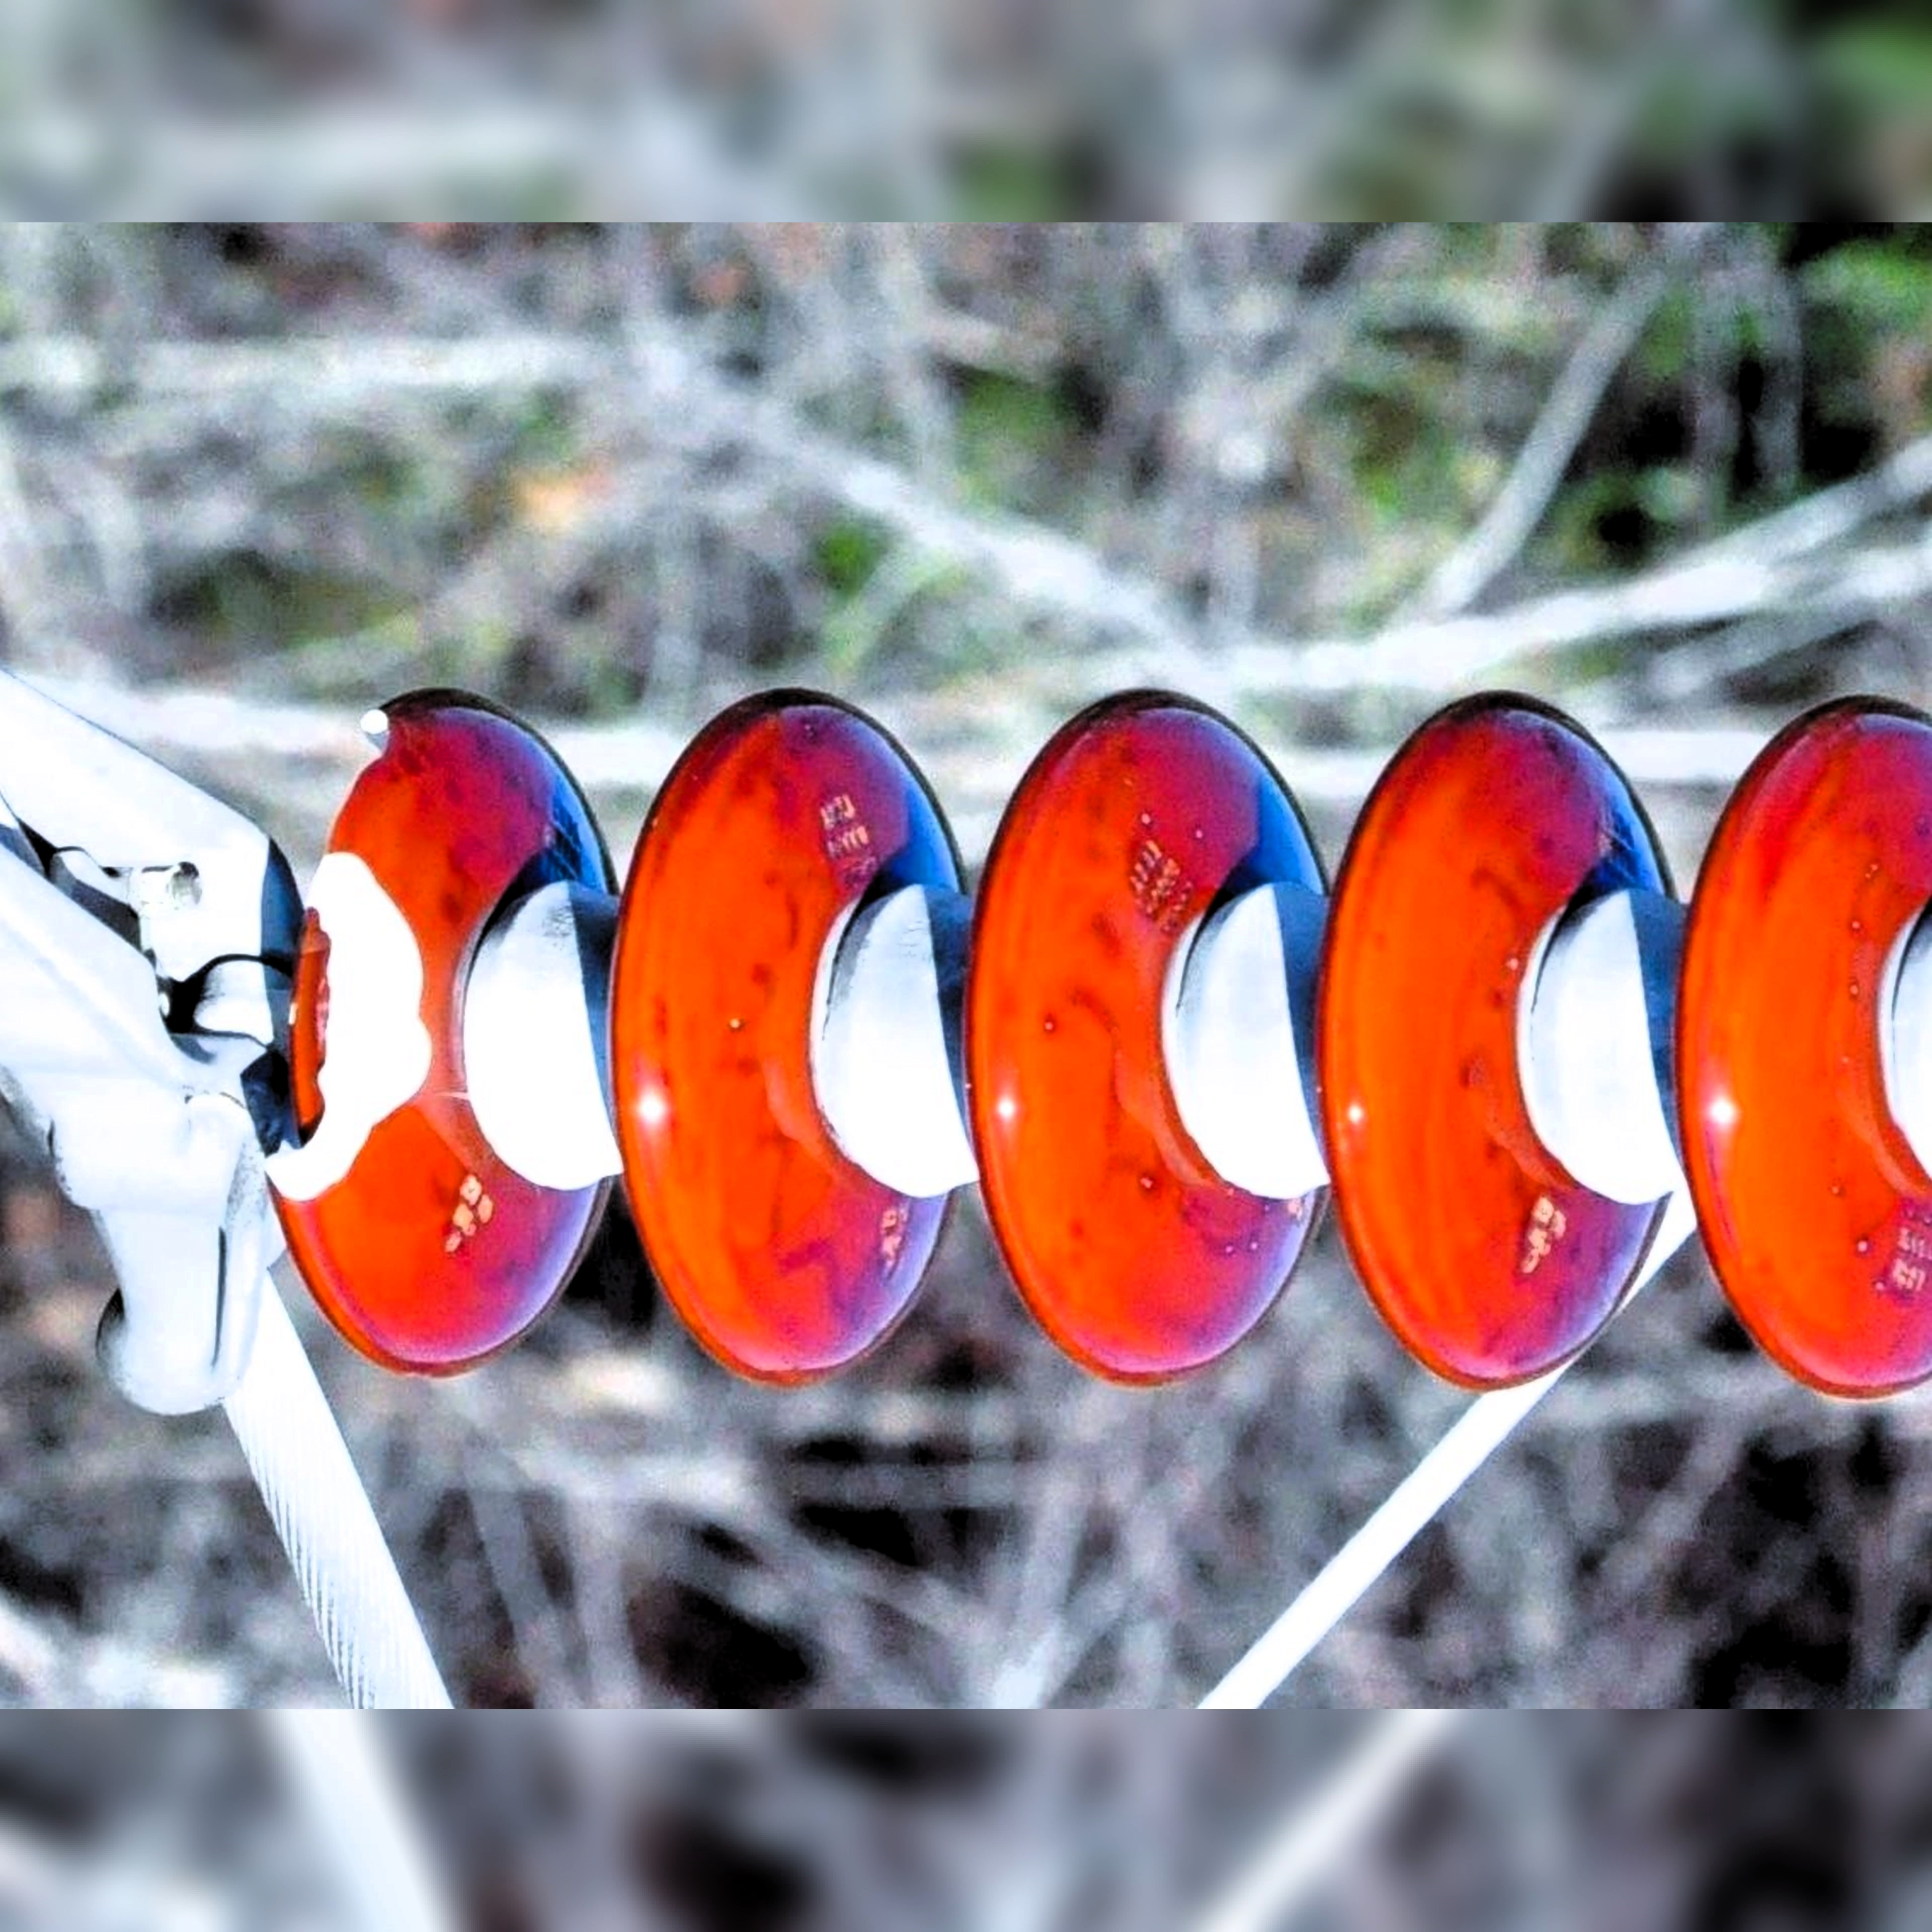insulator breakage: (255, 671, 623, 1389)
